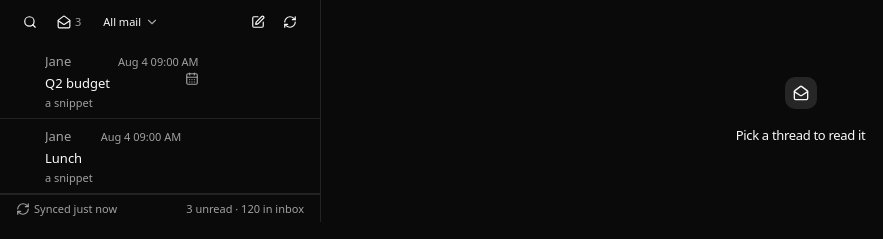
Test: does not offer one thread’s meeting on another thread
Click the button "Jane Q2 budget a snippet Aug 4 09:00 AM" at (78, 83), box x1=22 y1=44 x2=320 y2=118
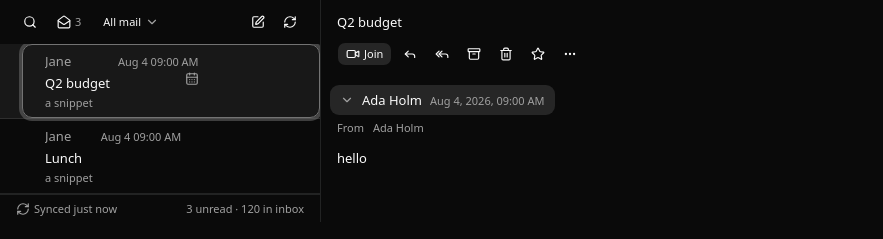
Now the button "Join" is shown, box x1=337 y1=42 x2=392 y2=66
Click the button "Jane Lunch a snippet Aug 4 09:00 AM" at (64, 158), box x1=22 y1=119 x2=320 y2=193
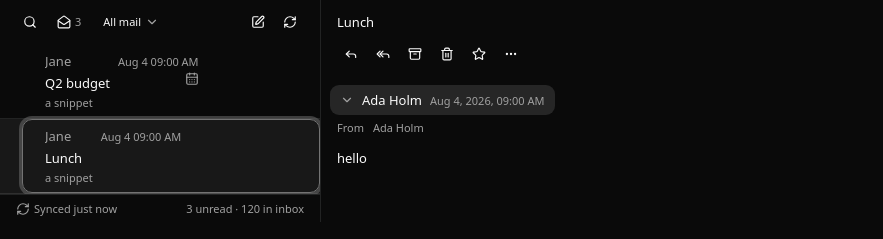
Now the button "Join" is gone
